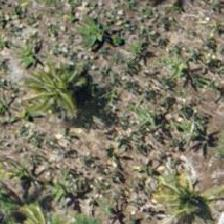coconut_tree: (10, 48, 100, 138), (144, 149, 223, 223)
